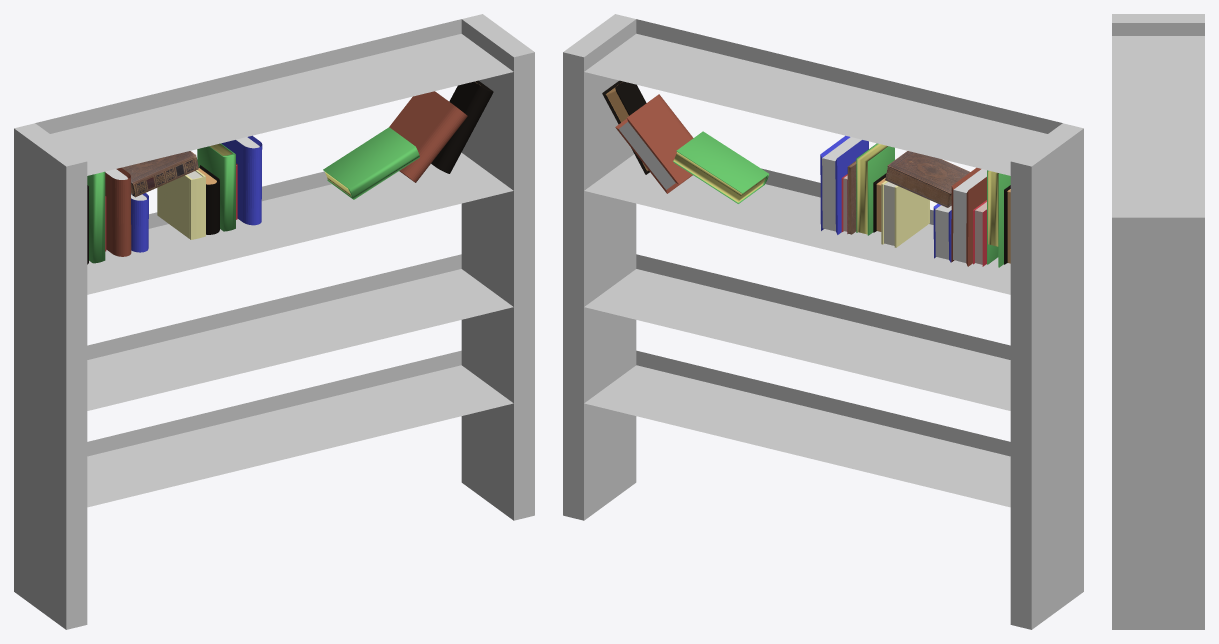
Rendered from book_on_shelf.glb.
3 views of the same model, side by side, from view 1: azimuth 30°, elevation 25°; view 2: azimuth 150°, elevation 25°; view 3: azimuth 270°, elevation 25° (orthographic). The views are drawn at different scales.
Visible parts, largest first — view 1: shelf_3, book.002, book_4.001, book.003, book_4, book_4.003, book_1.001, book.001, book_5.001, book, book_4.002, book_1; view 2: shelf_3, book_4.001, book.002, book_5.001, book_4, book.003, book_4.003, book.001, book, book_1.001, book_4.002, book_2.001; view 3: shelf_3.
Part boxes in pixels (x1,y1,x2,y2): shelf_3: [14, 14, 534, 629]; book.002: [323, 127, 419, 199]; book_4.001: [389, 91, 467, 182]; book.003: [157, 170, 205, 239]; book_4: [221, 135, 262, 225]; book_4.003: [105, 167, 131, 256]; book_1.001: [431, 80, 493, 173]; book.001: [197, 143, 235, 231]; book_5.001: [122, 151, 198, 197]; book: [87, 171, 105, 263]; book_4.002: [131, 193, 148, 252]; book_1: [198, 165, 219, 234]; shelf_3: [563, 14, 1083, 629]; book_4.001: [615, 94, 693, 193]; book.002: [673, 131, 768, 203]; book_5.001: [885, 151, 969, 207]; book_4: [820, 135, 868, 234]; book.003: [881, 181, 929, 247]; book_4.003: [951, 167, 986, 266]; book.001: [856, 143, 894, 235]; book: [987, 170, 1010, 267]; book_1.001: [602, 80, 649, 174]; book_4.002: [933, 204, 951, 262]; book_2.001: [973, 200, 986, 266]; shelf_3: [1112, 14, 1204, 629].
Size of the model in its own units: 3.22 by 3.04 by 0.6217.
12 materials, 1 textured.
